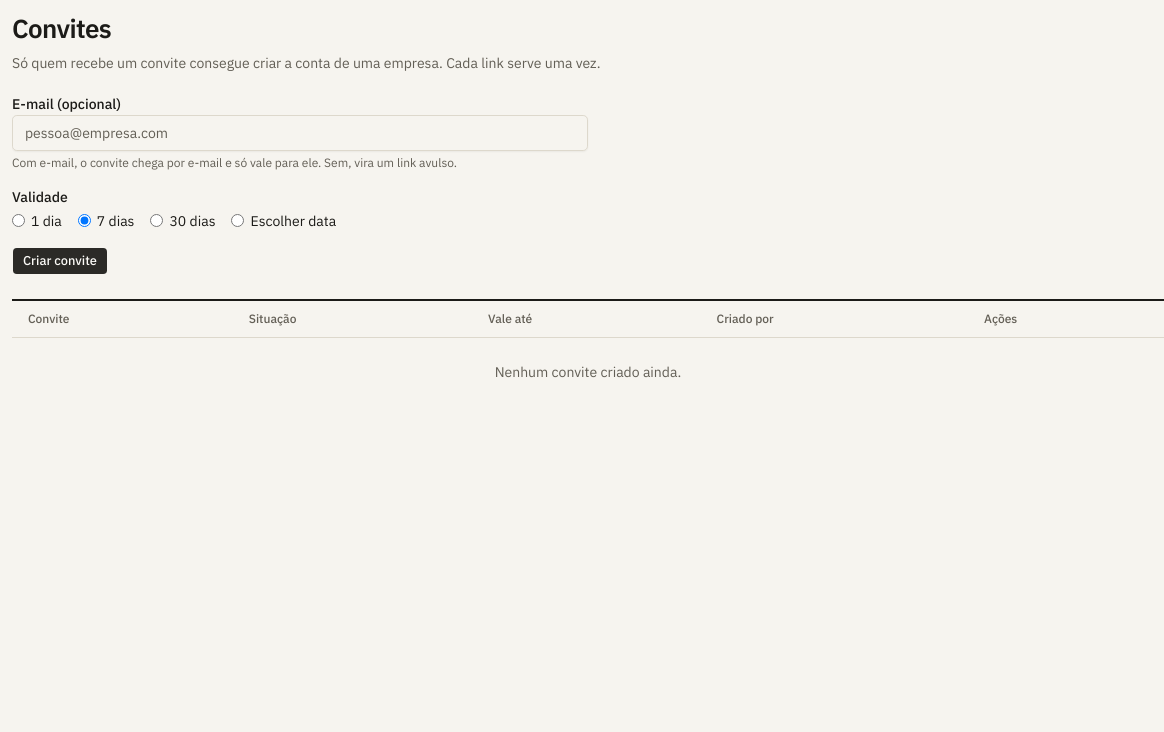
Scenario: B51-03 — Convite por e-mail na tela › CA-B51-13: should mandar o e-mail digitado, avisar que saiu e mostrar o link
Type " ana@exemplo.com " into the field labelled "E-mail (opcional)" at (300, 132), box [12,114,588,150]
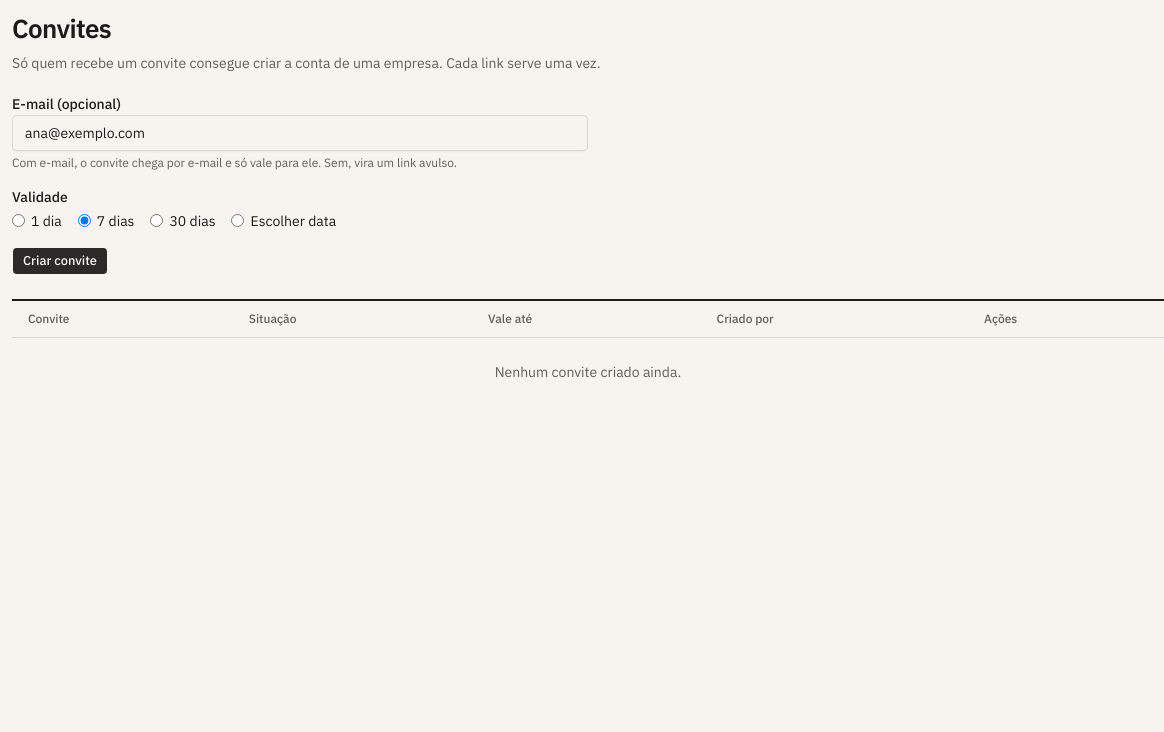
Click the button "Criar convite" at (60, 260), box [12,246,108,274]
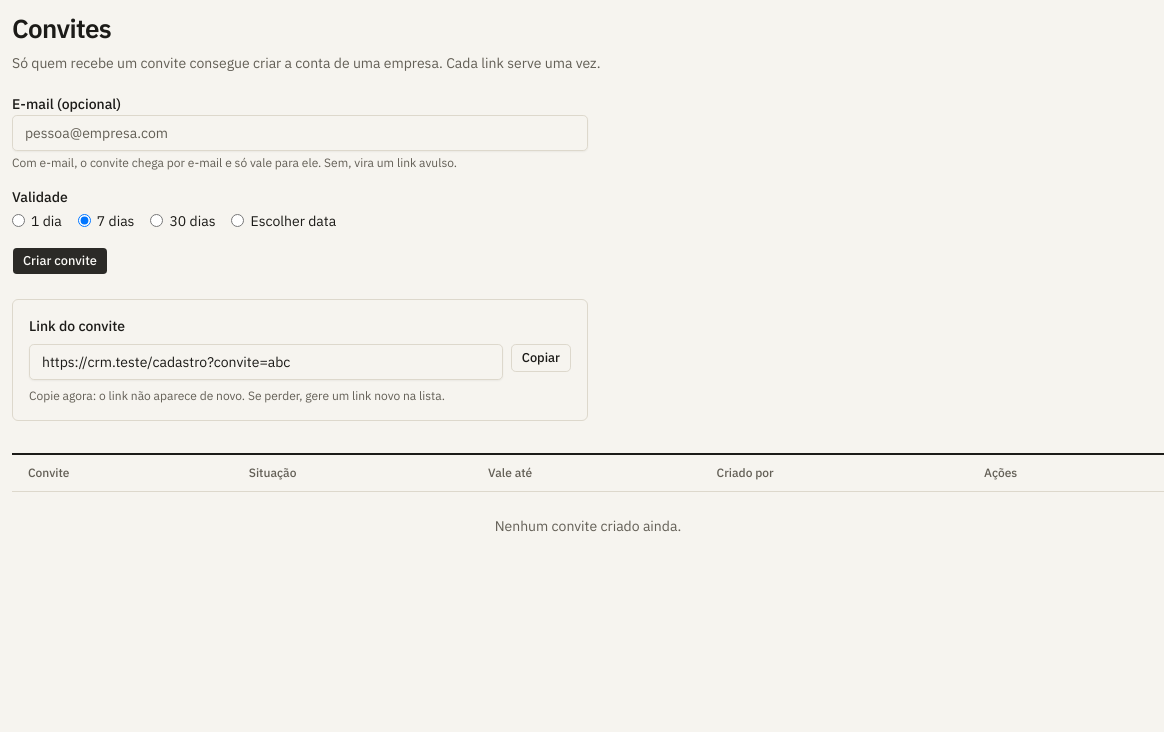
Now the field named "Link do convite" holds "https://crm.teste/cadastro?convite=abc", box [29,344,503,380]
